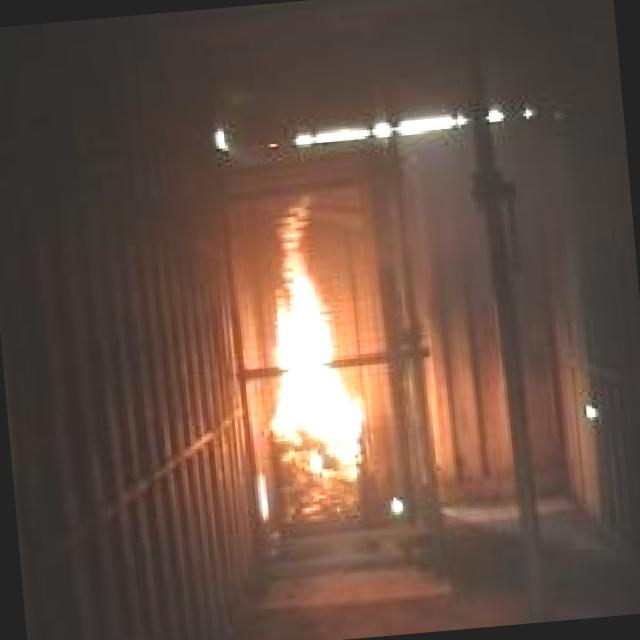fire: (242, 173, 386, 459)
